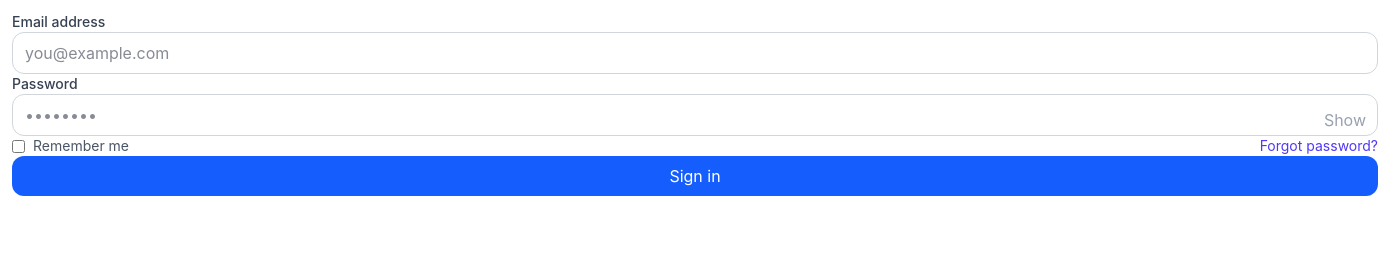
it: LoginForm › shows an error message when login fails
Type "wrong@example.com" into the field labelled "Email address" at (695, 53), box top-left (12, 32), bottom-right (1378, 74)
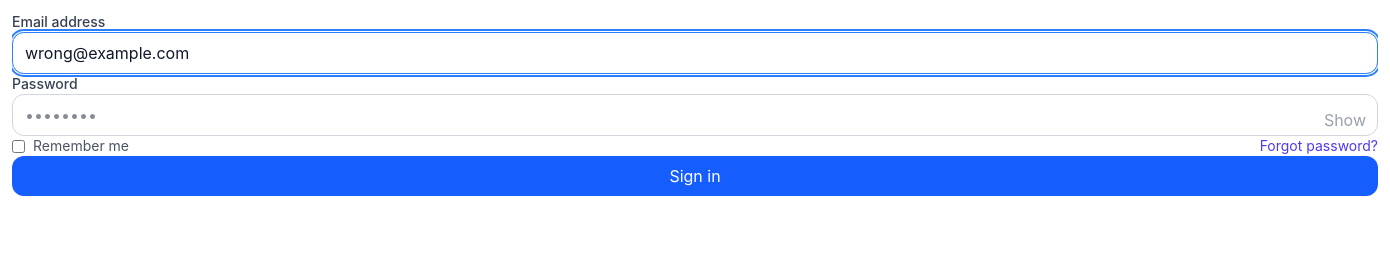
Type "wrongpass" into the password field labelled "Password" at (695, 115), box top-left (12, 94), bottom-right (1378, 136)
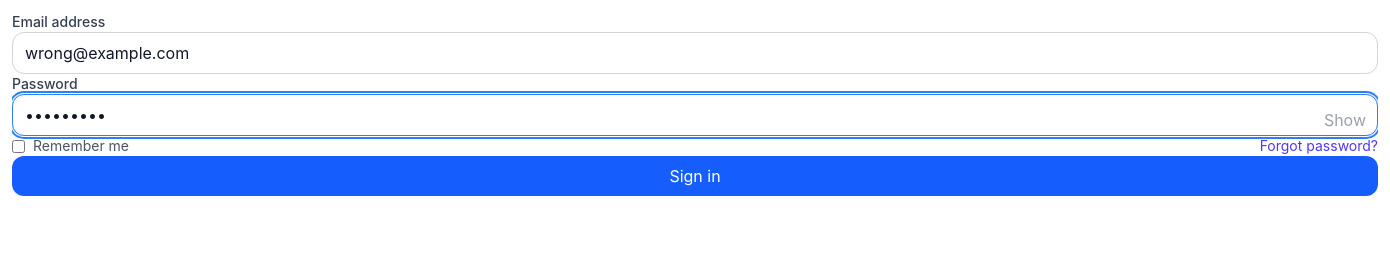
Click the button "Sign in" at (695, 176), box top-left (12, 156), bottom-right (1378, 196)
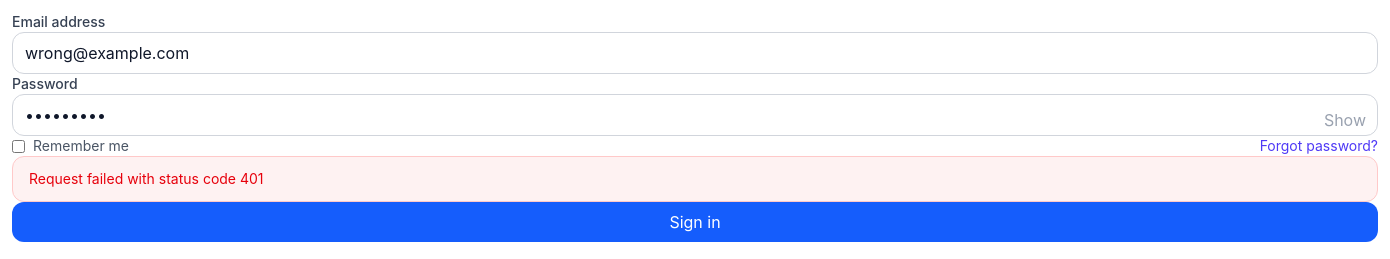
Check: the message "Request failed with status code 401" is shown, box top-left (12, 156), bottom-right (1378, 202)
